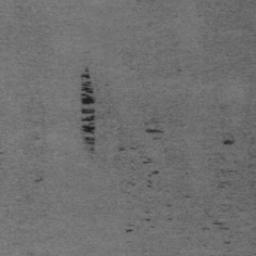Secondary rust skin: (79, 65, 96, 152)
